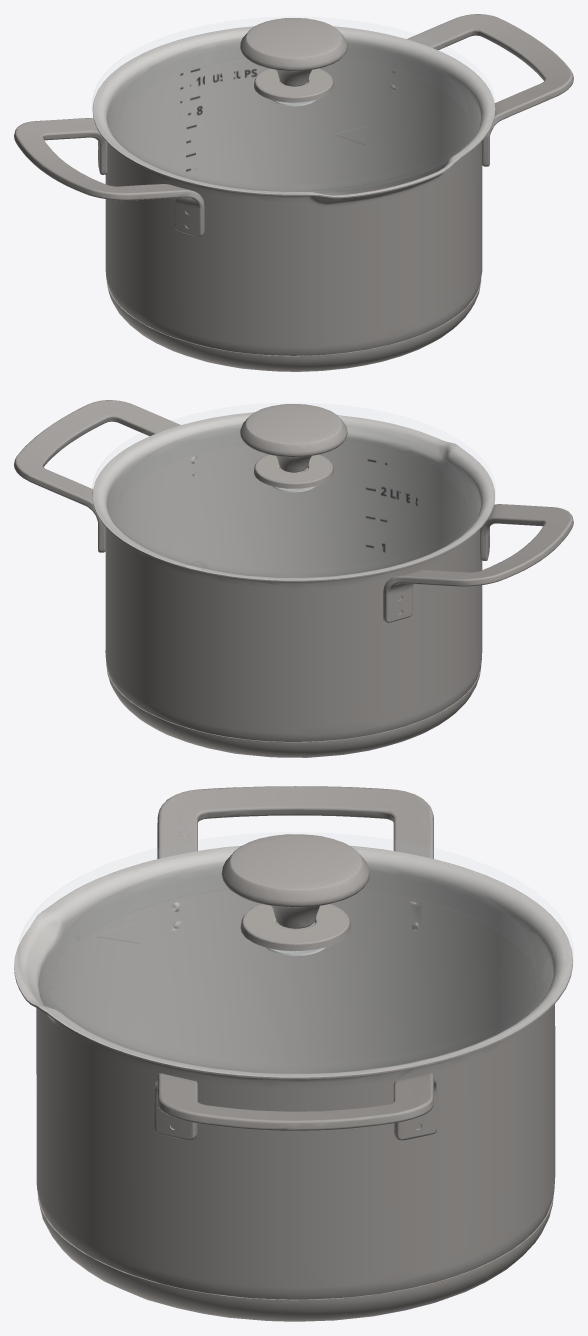
File: hemkomst_garnek_z_pokrywka_40513140.glb
3 renders of one model, top to bottom at view 1: azimuth 30°, elevation 25°; view 2: azimuth 150°, elevation 25°; view 3: azimuth 270°, elevation 25°, orthographic. The views are drawn at different scales.
Visible parts, largest first — view 1: hemkomst_garnek_z_pokrywka_40513140; view 2: hemkomst_garnek_z_pokrywka_40513140; view 3: hemkomst_garnek_z_pokrywka_40513140.
Part boxes in pixels (<box>): hemkomst_garnek_z_pokrywka_40513140: <box>14,14,573,371</box>; hemkomst_garnek_z_pokrywka_40513140: <box>14,400,573,757</box>; hemkomst_garnek_z_pokrywka_40513140: <box>14,786,572,1321</box>.
Bounding box in the file's own units: 0.3024 × 0.1533 × 0.2121.
2 materials, 2 textured.
